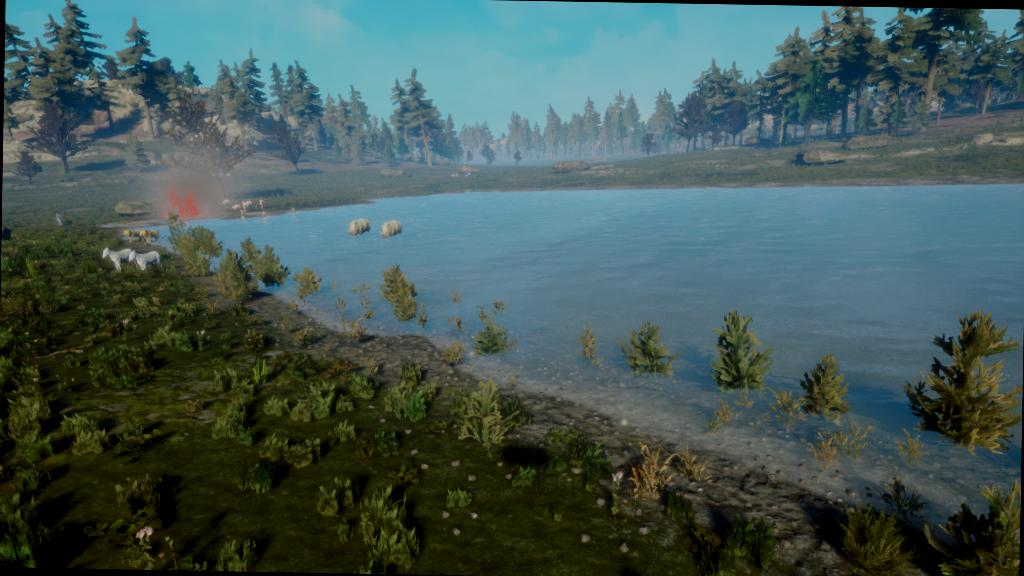Fire: (157, 182, 207, 225)
human: (259, 210, 272, 226), (288, 205, 300, 221), (258, 197, 266, 210), (240, 200, 248, 212), (239, 214, 248, 224)
lion: (137, 228, 161, 244), (122, 228, 147, 242)
pig: (220, 197, 232, 206), (232, 203, 240, 211), (244, 200, 252, 207)
rhinoceros: (376, 218, 403, 243), (345, 216, 373, 238)
smoke: (154, 160, 234, 226)
zebra: (98, 244, 140, 270), (126, 249, 162, 272)
